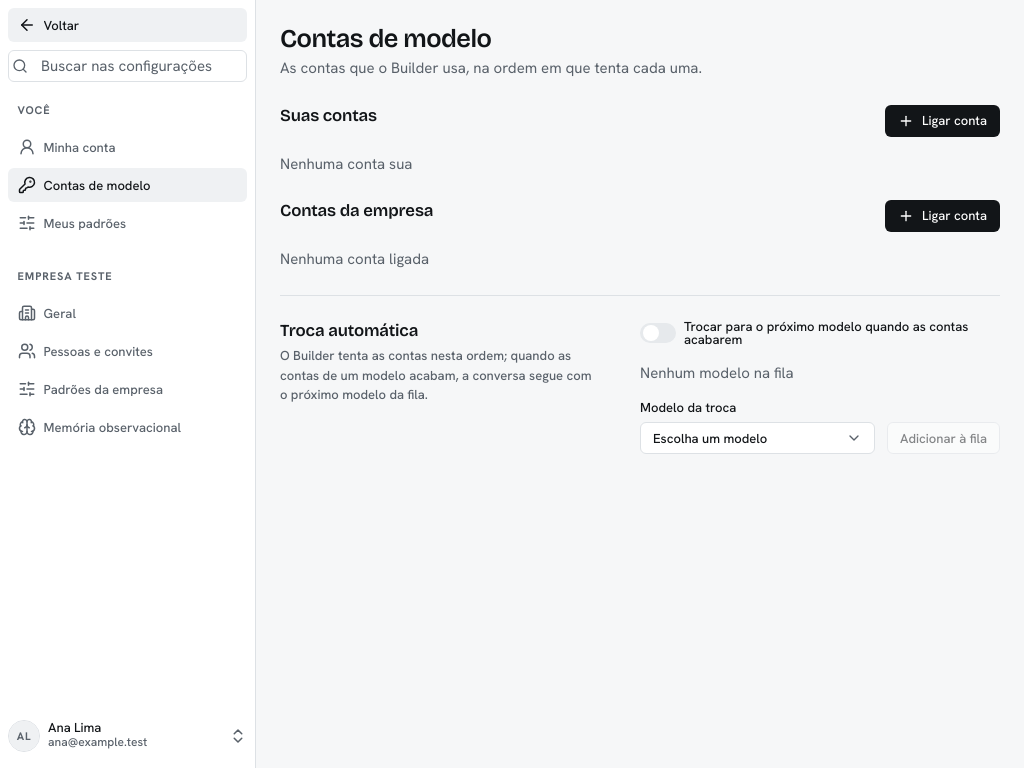
Test case: a fila da troca automática lista os de connected.company
The image size is (1024, 768).
Expected: the heading "Contas de modelo" is shown, left=280, top=23, right=491, bottom=54
Click the dropdown named "Modelo da troca" at (758, 438), box left=640, top=422, right=875, bottom=454
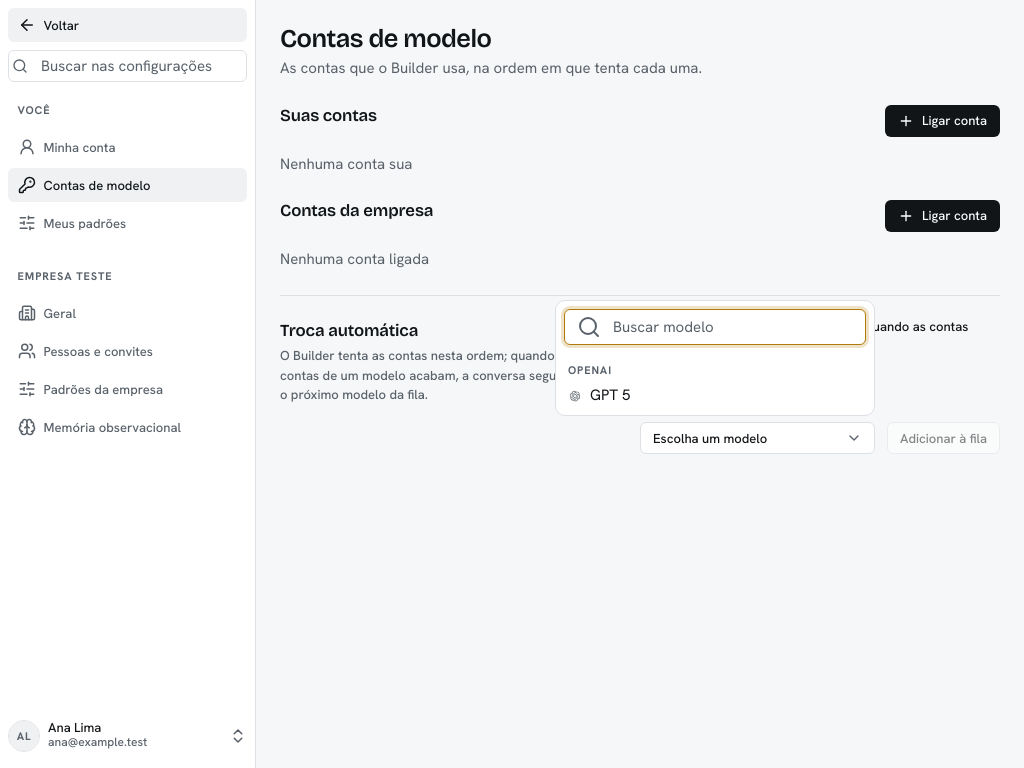
Expected: the options read "GPT 5", in this order, left=568, top=385, right=630, bottom=405
